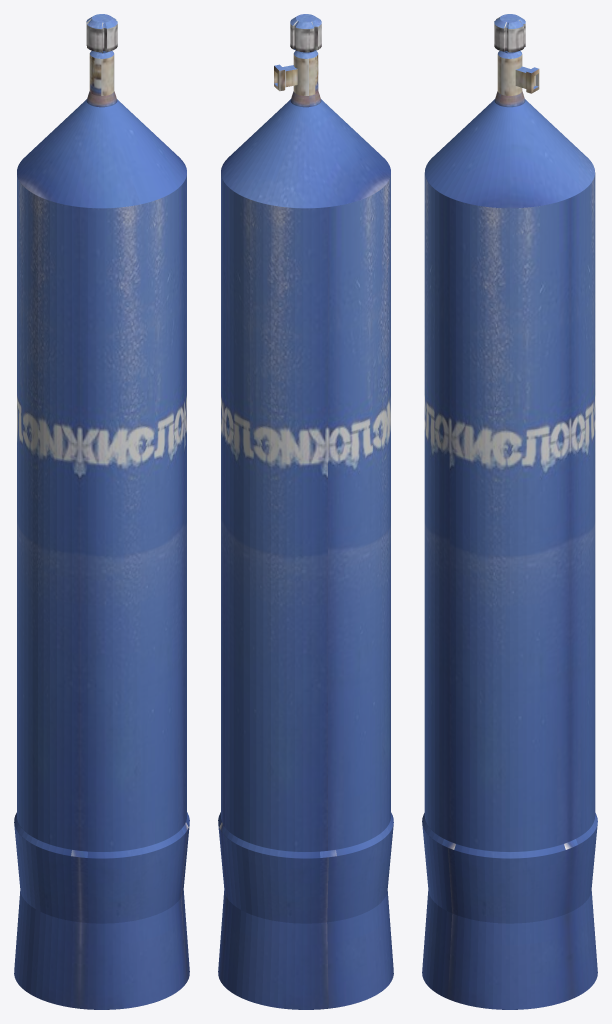
Rendered from Balon_gas_001.fbx.
3 renders of one model, left to right at view 1: azimuth 30°, elevation 25°; view 2: azimuth 150°, elevation 25°; view 3: azimuth 270°, elevation 25°, orthographic.
Parts seen in each view (by area): view 1: Cylinder; view 2: Cylinder; view 3: Cylinder.
Boxes of the visible parts, left/top/right/bottom form: Cylinder: left=14, top=14, right=189, bottom=1009; Cylinder: left=218, top=14, right=393, bottom=1009; Cylinder: left=422, top=14, right=597, bottom=1009.
Size of the model in its own units: 61.92 by 371 by 61.92.
